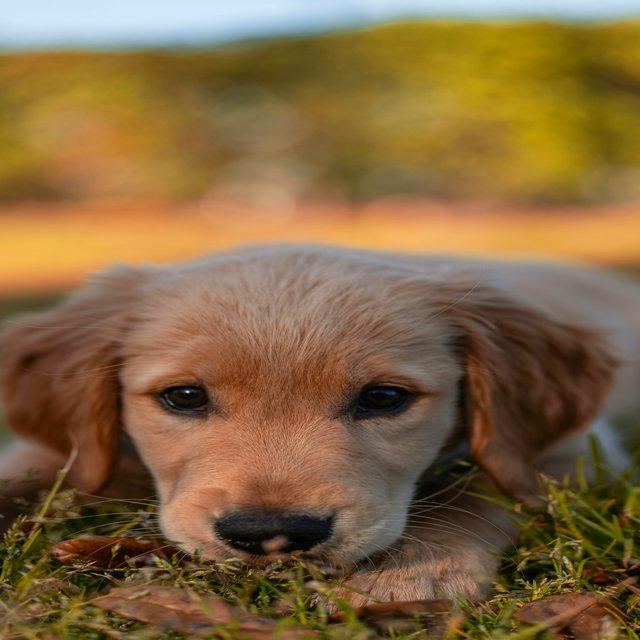retriever: (1, 239, 640, 616)
